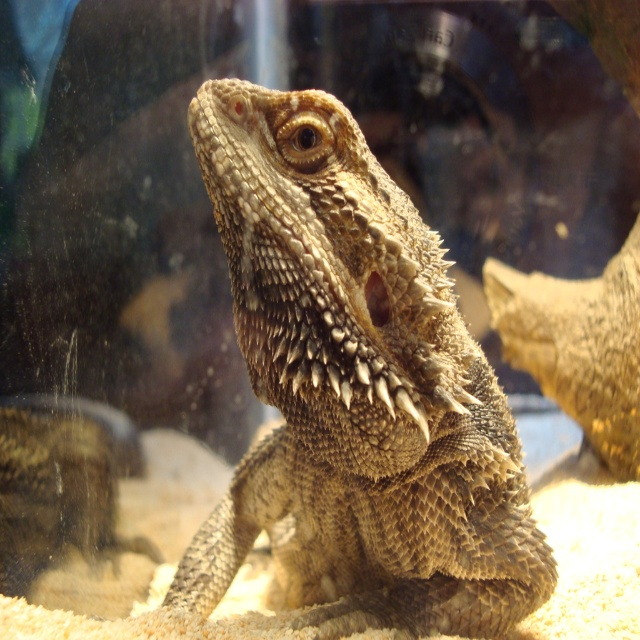Lizard: (127, 79, 551, 640)
